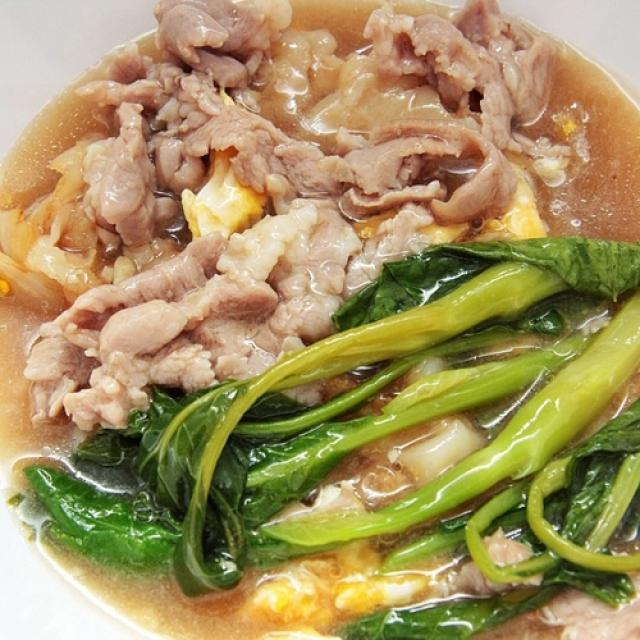面条主食: (21, 28, 620, 594)
